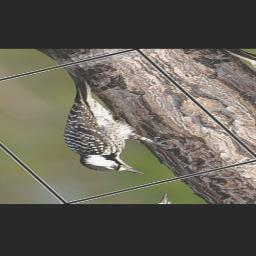Woodpecker: (0, 64, 201, 183)
